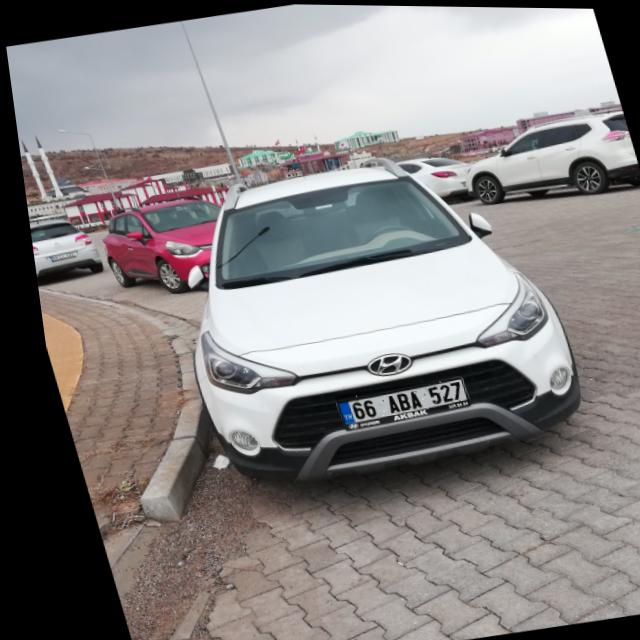license_plate: (321, 374, 462, 424)
